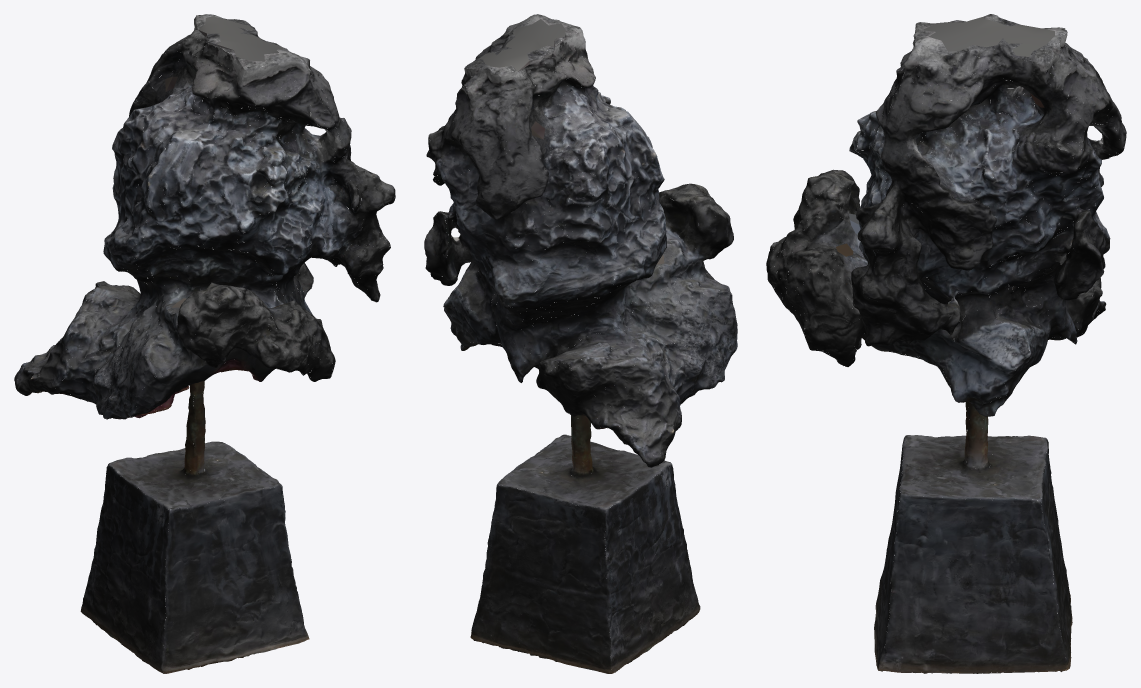
Rendered from doublehead.glb.
3 renders of one model, left to right at view 1: azimuth 30°, elevation 25°; view 2: azimuth 150°, elevation 25°; view 3: azimuth 270°, elevation 25°, orthographic. The views are drawn at different scales.
Parts seen in each view (by area): view 1: Mesh_0_Part_0; view 2: Mesh_0_Part_0; view 3: Mesh_0_Part_0.
Part boxes in pixels (x1,y1,x2,y2): Mesh_0_Part_0: (14, 14, 395, 673); Mesh_0_Part_0: (424, 14, 737, 673); Mesh_0_Part_0: (766, 14, 1126, 673).
Bounding box in the file's own units: 3.76 × 7.32 × 3.78.
1 material, 1 textured.
